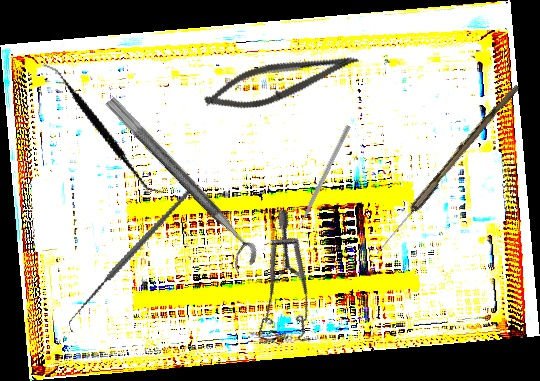Chopper: (289, 122, 351, 233)
Fixation Ring: (92, 95, 263, 276)
Hook Surgical: (41, 189, 219, 333)
Micro Scissor: (199, 35, 364, 124)
Spatula Surgical: (15, 63, 190, 194)
Speculum: (208, 207, 346, 363)
Surgical Spoon: (373, 80, 520, 259)
